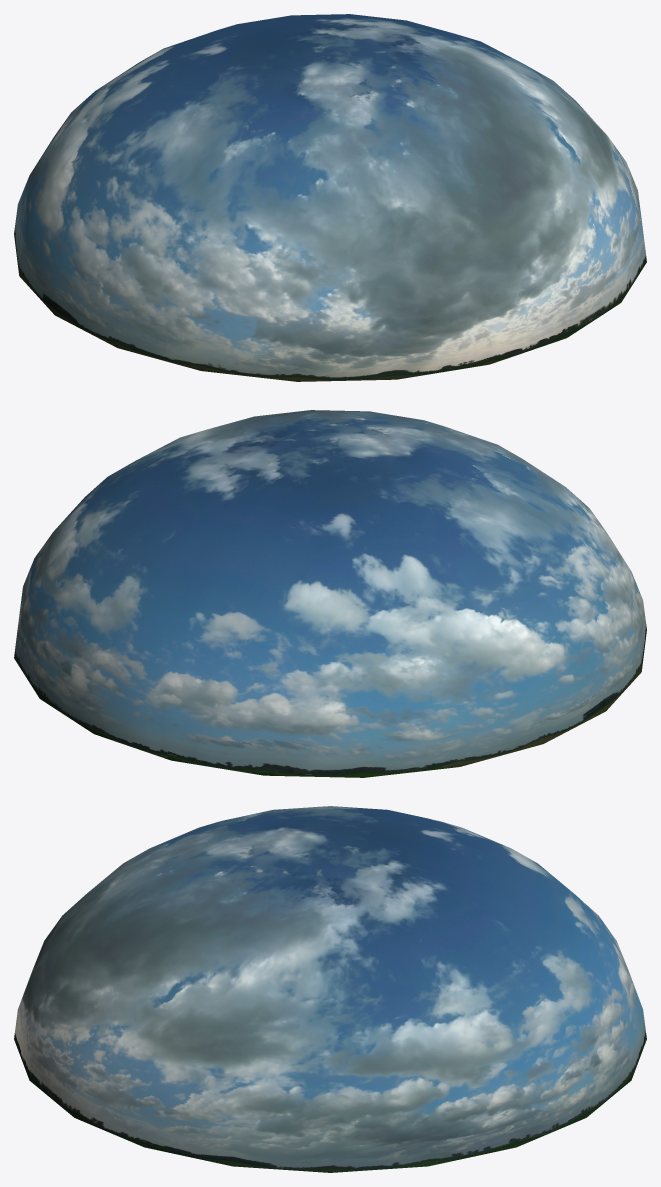
Rendered from Skydome.fbx.
3 views of the same model, one above another, from view 1: azimuth 30°, elevation 25°; view 2: azimuth 150°, elevation 25°; view 3: azimuth 270°, elevation 25° (orthographic).
Parts seen in each view (by area): view 1: pSphere1; view 2: pSphere1; view 3: pSphere1.
Part boxes in pixels (left/top/right/bottom): pSphere1: left=14, top=14, right=646, bottom=381; pSphere1: left=14, top=410, right=646, bottom=777; pSphere1: left=14, top=806, right=646, bottom=1172.
Size of the model in its own units: 12809 by 4267 by 12809.
